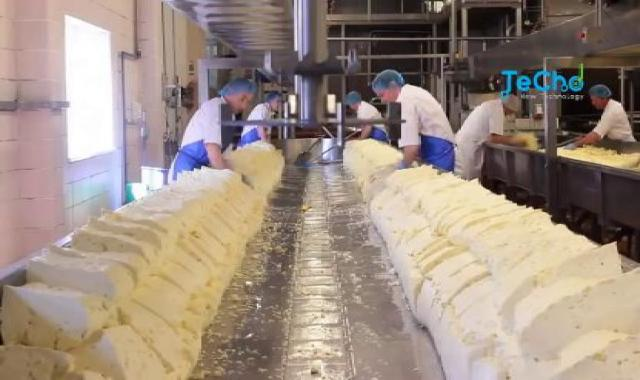hairnet: (364, 70, 408, 104), (204, 80, 254, 101), (591, 84, 622, 109), (340, 92, 366, 110), (262, 94, 288, 111)
